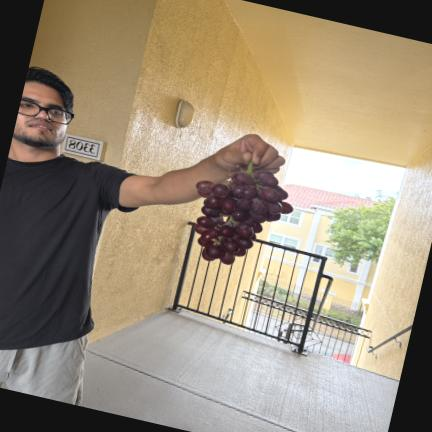grape_cluster: (194, 160, 293, 265)
